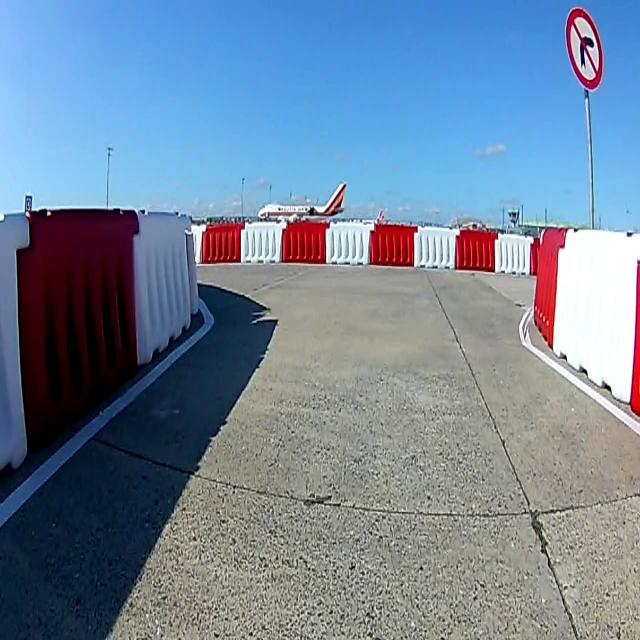sagadonulmez: (567, 8, 603, 88)
